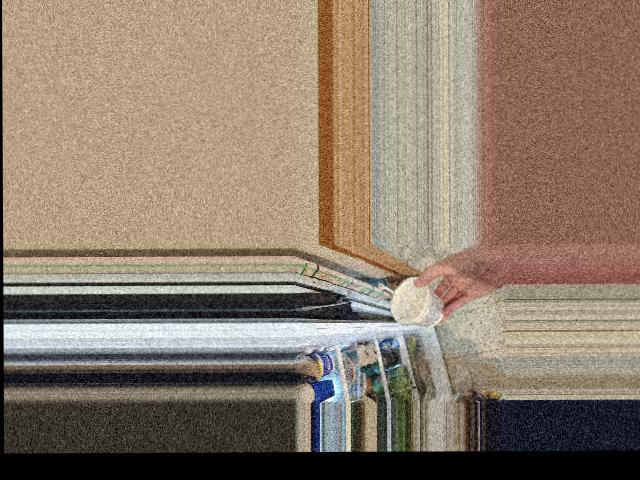cotage: (392, 270, 448, 326)
